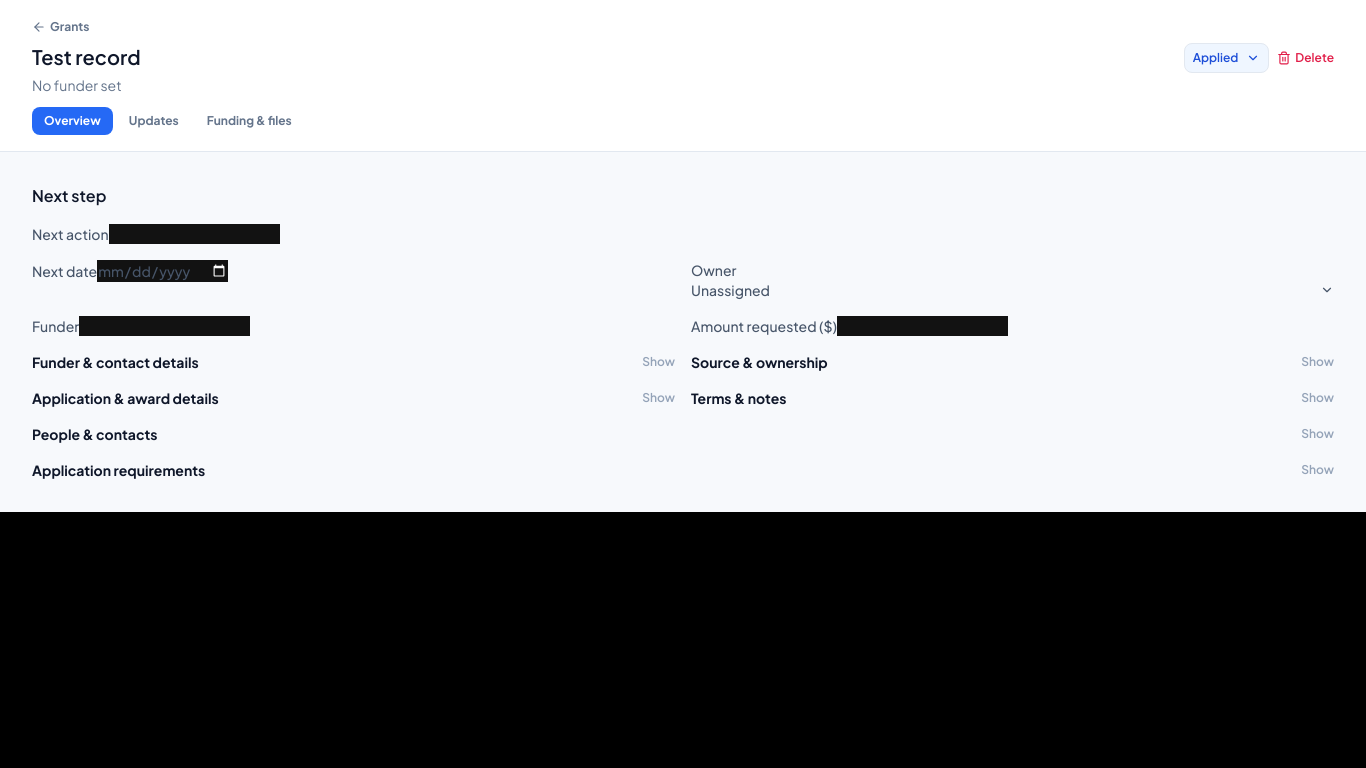
Test: persisted grant and project milestones › celebrates grant after confirmed save, not initial load or optimistic changes (success=awarded)
Click the button with aria-label "Stage" at (1227, 58), box 1184,43 -> 1269,73
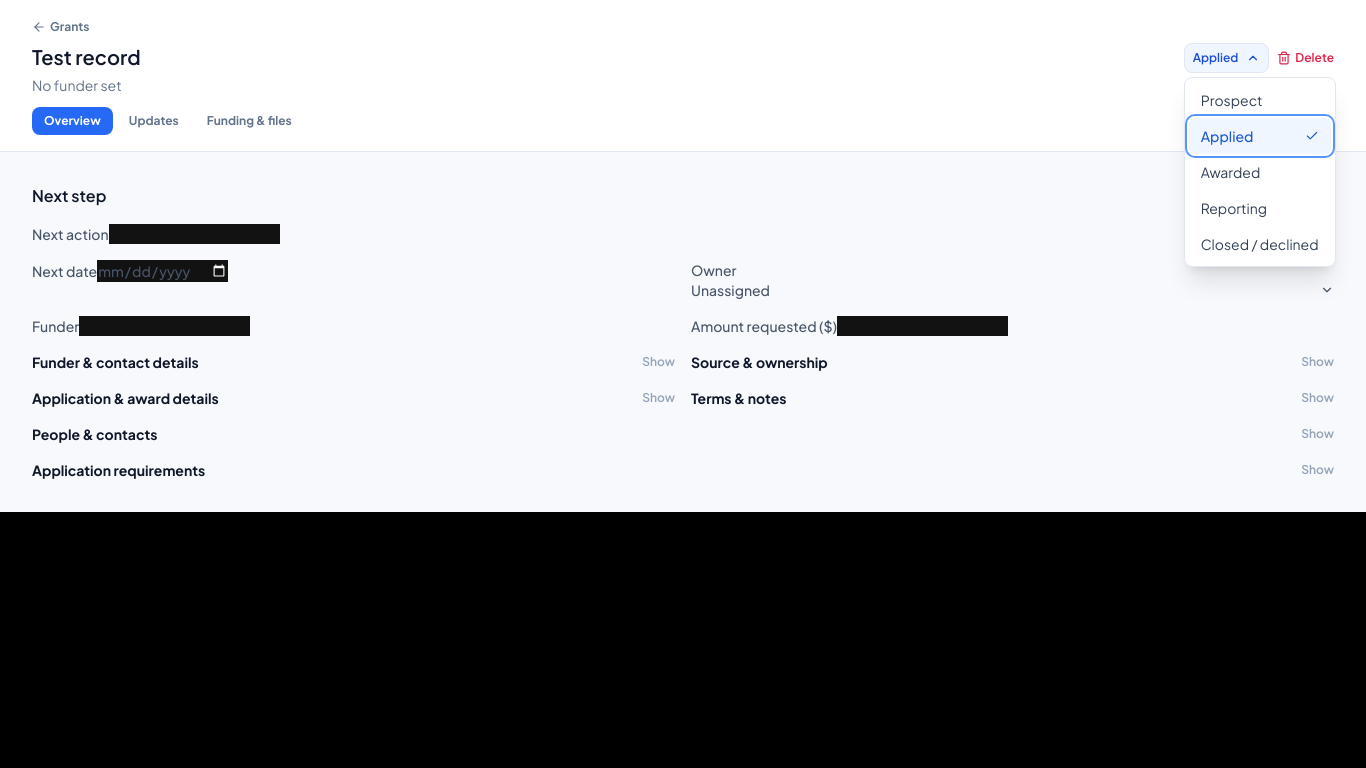
Expected: the option "Awarded" is shown
Click the option "Awarded" at (1260, 172), box 1189,154 -> 1331,190
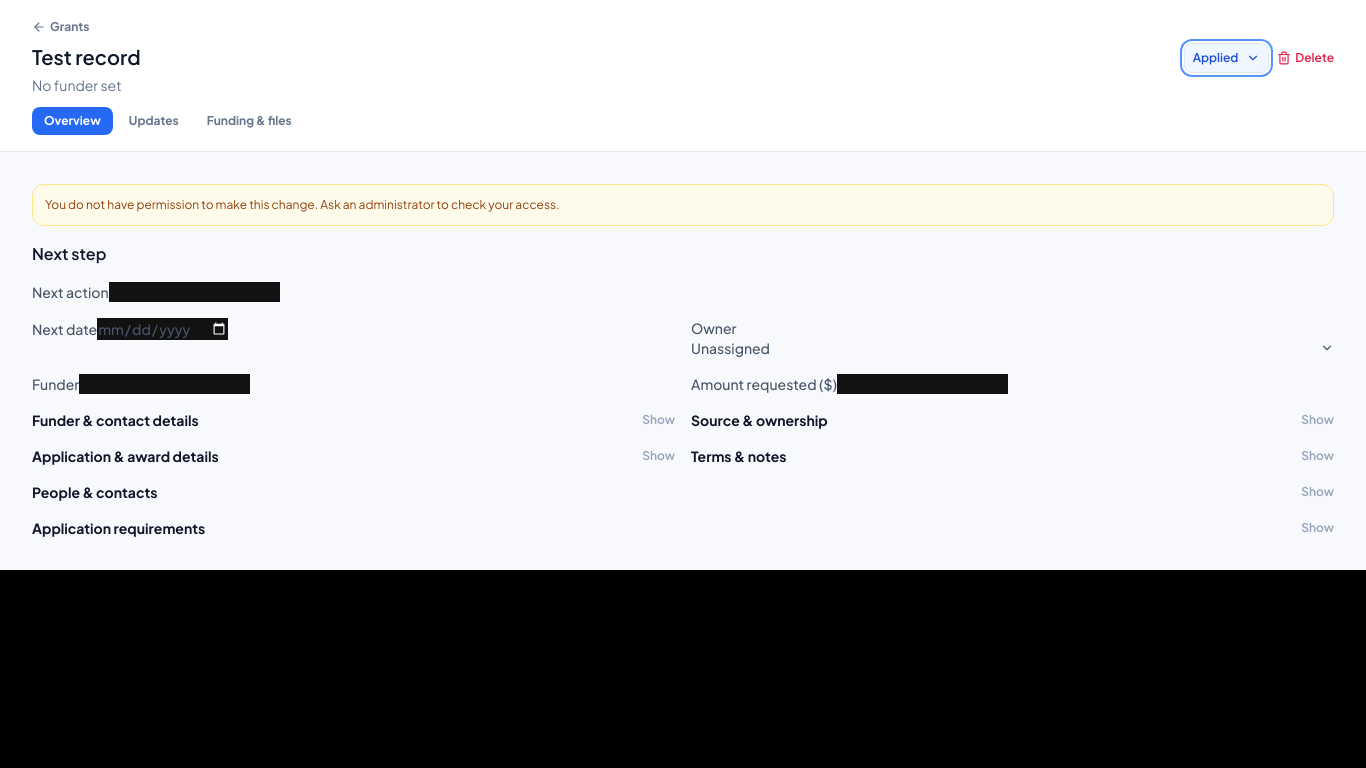
Expected: the message shows "Ask an administrator", 45,197 -> 560,212
